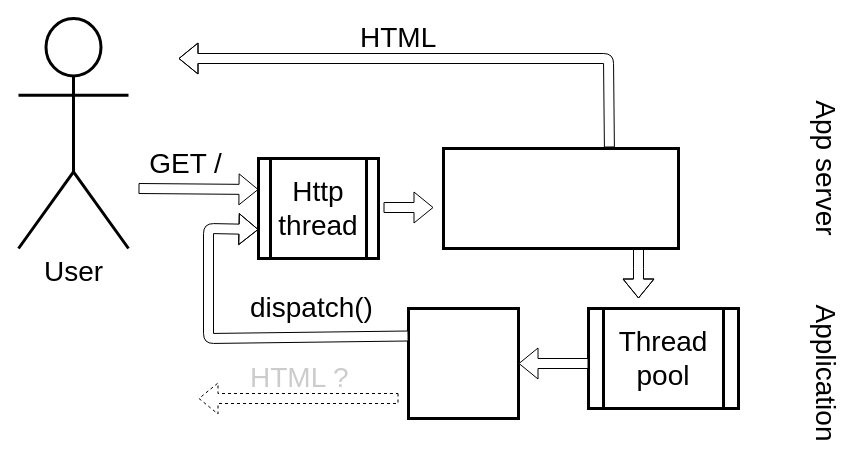
The diagram is 860 pixels wide and 468 high, and some of its shapes have lost their labels. The shapes that lost their labels are listed below. From the top down, each one's centre as x and y in pixels, then its label:
(x=561, y=198): MVC Controller
(x=463, y=363): Handler
